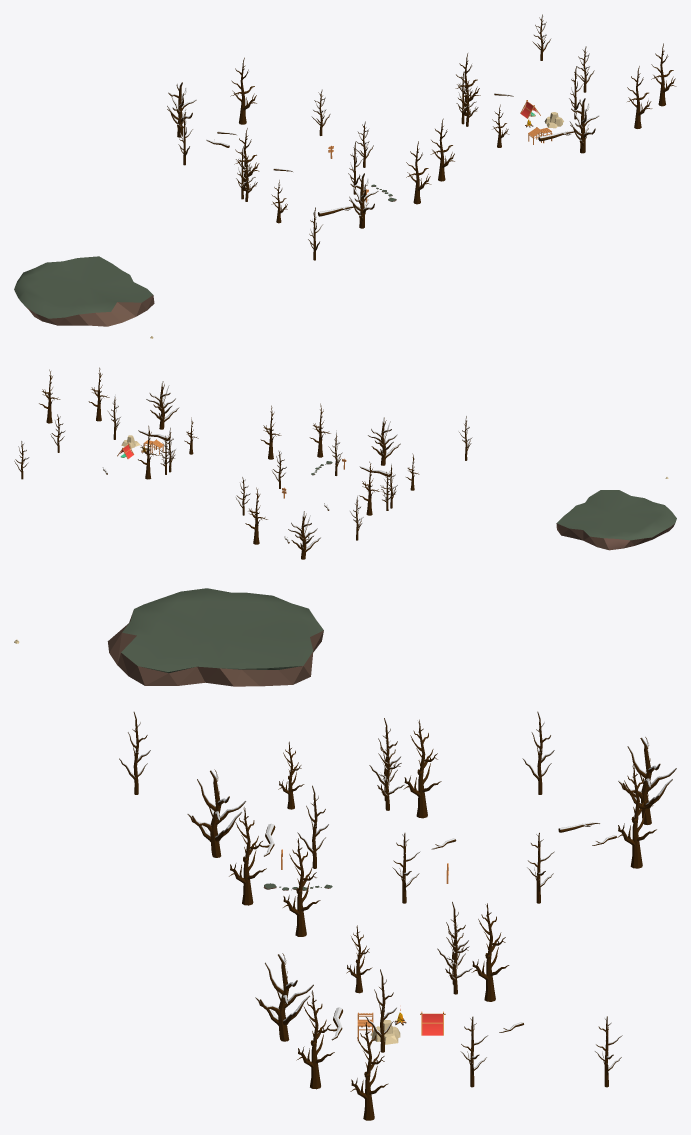
Rendered from deadForest.glb.
The picture shows the model from 3 angles, top to bottom: view 1: azimuth 30°, elevation 25°; view 2: azimuth 150°, elevation 25°; view 3: azimuth 270°, elevation 25°; orthographic projection. The views are drawn at different scales.
Visible parts, largest first — view 1: Ground, Dead_tree_1.004, Dead_tree_1.001, Dead_tree_1.002; view 2: Ground, Dead_tree_1.001, Dead_tree_1.004, Dead_tree_1.002; view 3: Ground, Dead_tree_1.004, Dead_tree_1.001, Dead_tree_1.002, Father_tree.005, Father_tree.001, Father_tree.009, Father_tree.010, Father_tree.006, Father_tree.002, Father_tree.007.
Part boxes in pixels (<box>): Ground: <box>14,256,154,326</box>; Dead_tree_1.004: <box>569,98,599,153</box>; Dead_tree_1.001: <box>349,173,378,228</box>; Dead_tree_1.002: <box>167,82,196,137</box>; Ground: <box>556,490,676,550</box>; Dead_tree_1.001: <box>368,417,400,465</box>; Dead_tree_1.004: <box>146,381,179,429</box>; Dead_tree_1.002: <box>288,511,320,559</box>; Ground: <box>107,588,323,686</box>; Dead_tree_1.004: <box>255,953,313,1041</box>; Dead_tree_1.001: <box>187,769,246,857</box>; Dead_tree_1.002: <box>618,737,676,824</box>; Father_tree.005: <box>617,764,656,868</box>; Father_tree.001: <box>229,807,266,905</box>; Father_tree.009: <box>350,1022,388,1120</box>; Father_tree.010: <box>296,990,334,1089</box>; Father_tree.006: <box>403,719,441,818</box>; Father_tree.002: <box>283,838,320,936</box>; Father_tree.007: <box>471,903,509,1001</box>.
Bounding box in the file's own units: 173 × 16.98 × 91.28.
Materials: 74 (13 with a texture image).
